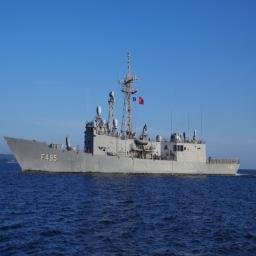Fragata: (5, 50, 242, 178)
